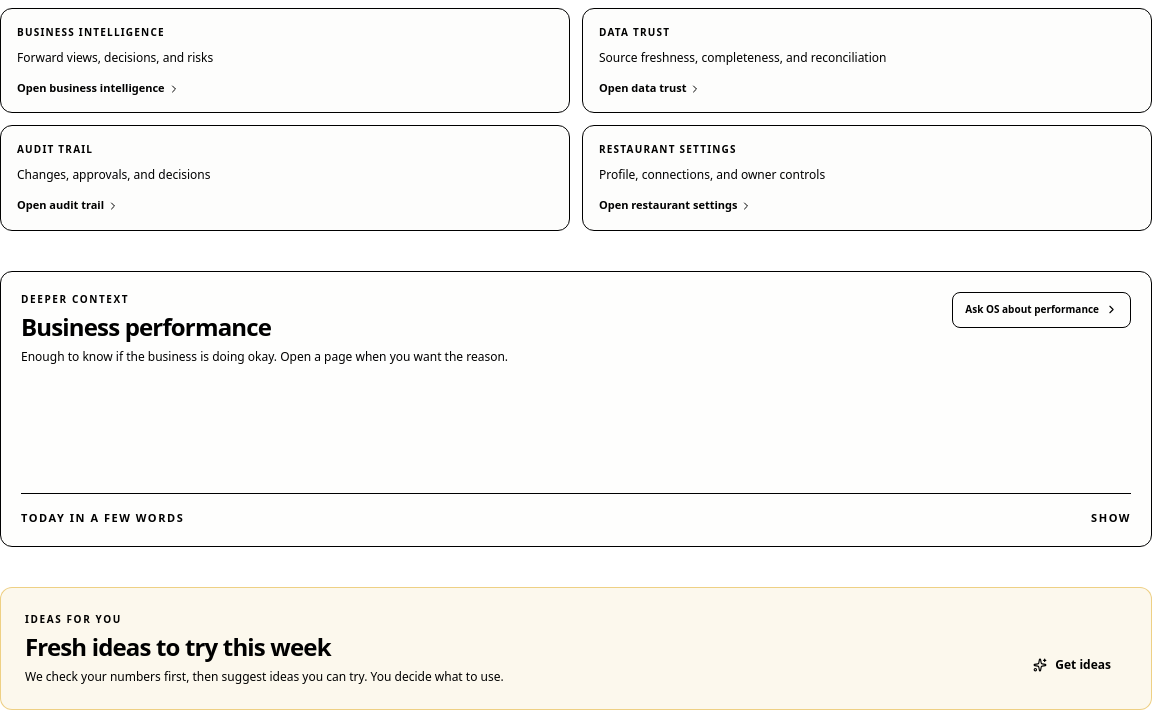
Test: home ends with an ideas box: numbers first, then AI ideas, with no choice to make
(page scrolled)
Expected: the heading "Fresh ideas to try this week" is shown, top-left (25, 630), bottom-right (331, 663)
Click the button "Get ideas".
click(1072, 665)  # box top-left (1017, 645), bottom-right (1127, 685)
(page scrolled)
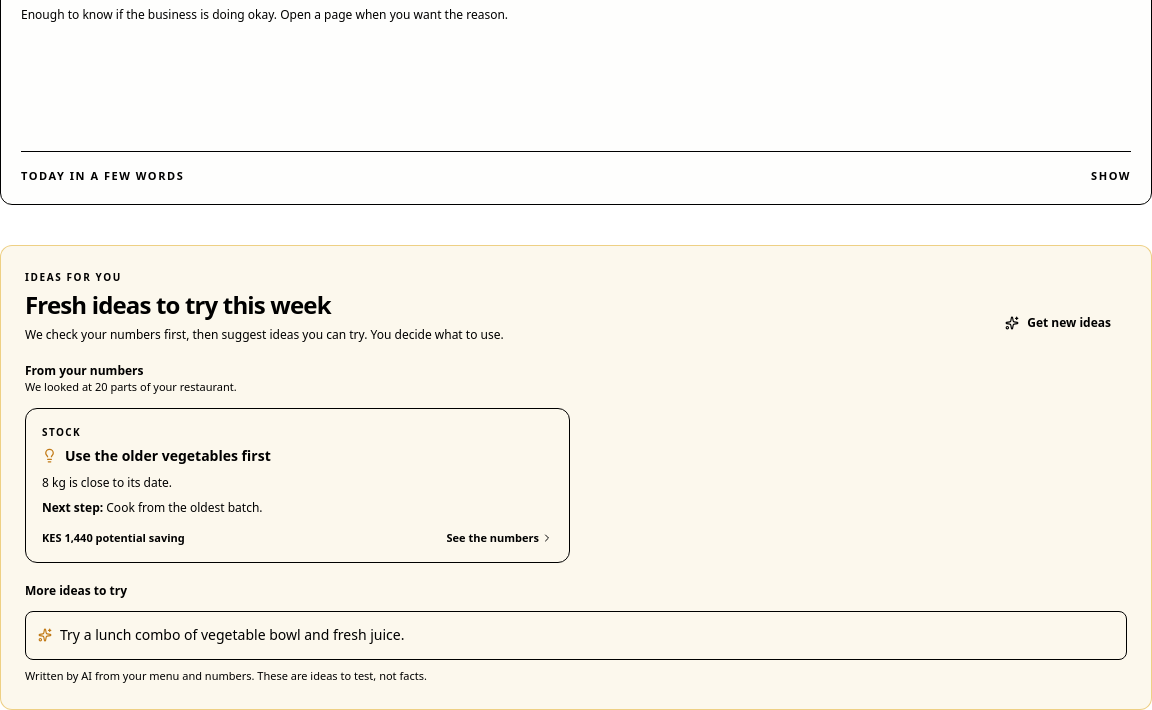
Now the heading "Use the older vegetables first" is shown, box top-left (42, 446), bottom-right (271, 464)
Now the text "We looked at 20 parts of your restaurant." is shown, box top-left (25, 379), bottom-right (237, 394)
Now the list item "Try a lunch combo of vegetable bowl and fresh juice." is shown, box top-left (25, 611), bottom-right (1127, 660)
